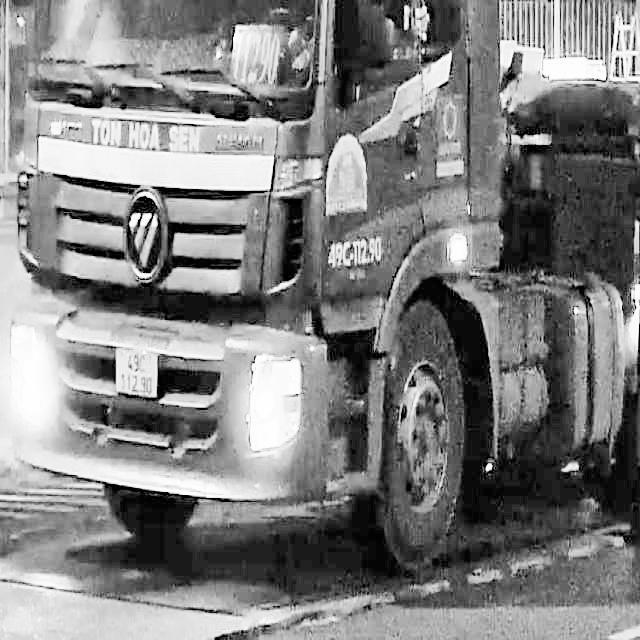Truck: (8, 0, 639, 575)
